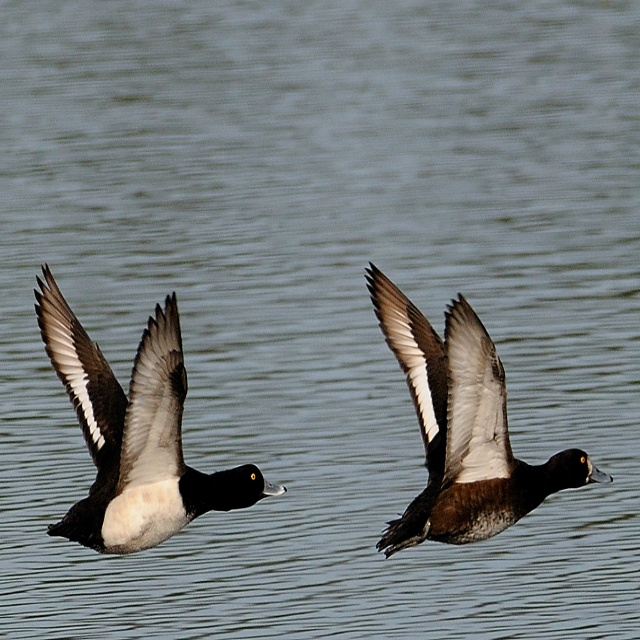Goose: (36, 262, 287, 555), (364, 254, 603, 546)
